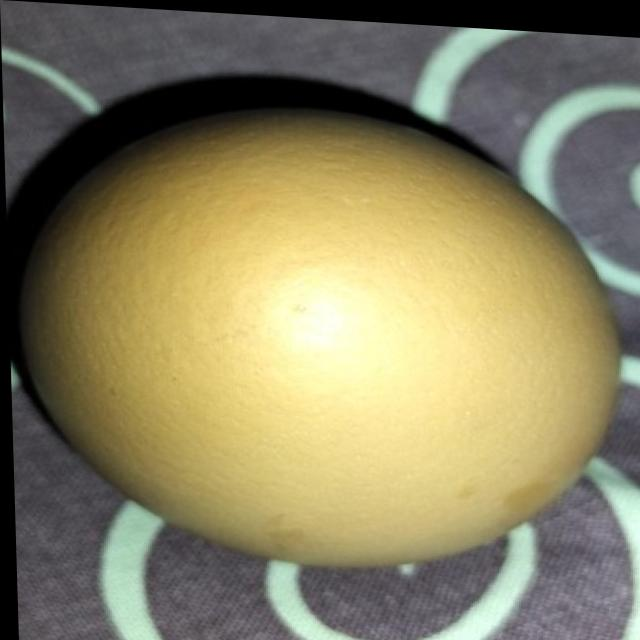fresh: (26, 76, 615, 571)
